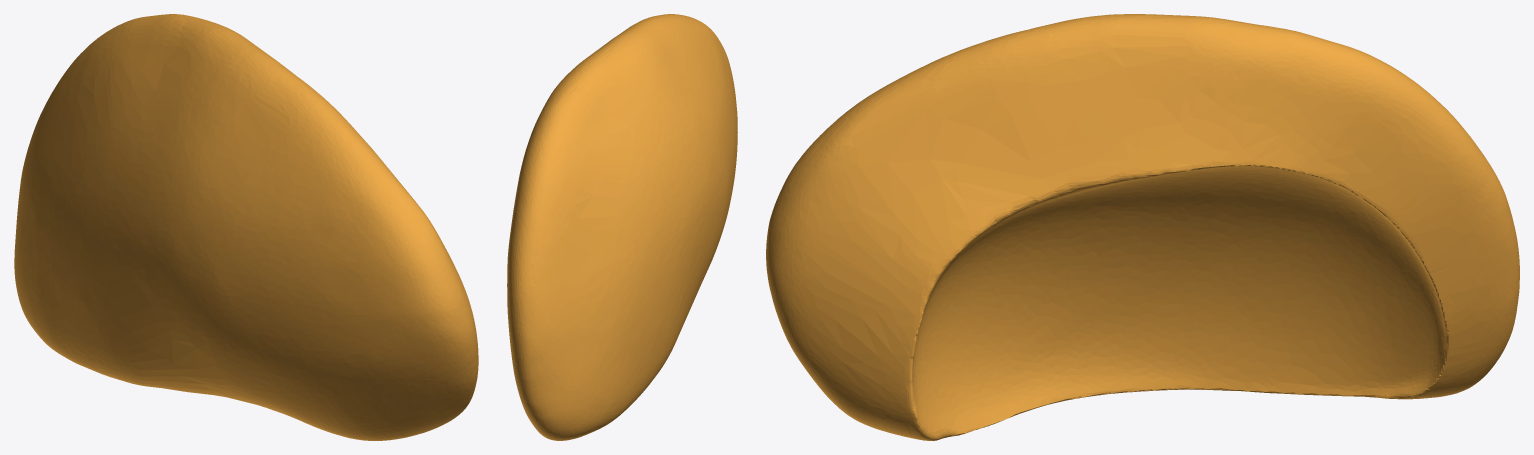
Rendered from Left_putamen1.obj.
The picture shows the model from 3 angles, left to right: view 1: azimuth 30°, elevation 25°; view 2: azimuth 150°, elevation 25°; view 3: azimuth 270°, elevation 25°; orthographic projection. The views are drawn at different scales.
Visible parts, largest first — view 1: obj0; view 2: obj0; view 3: obj0.
Part boxes in pixels (x1,y1,x2,y2): obj0: [14, 14, 478, 440]; obj0: [507, 14, 737, 440]; obj0: [766, 14, 1519, 440].
Bounding box in the file's own units: 12.53 × 17.9 × 29.37.
1 material, 1 textured.
